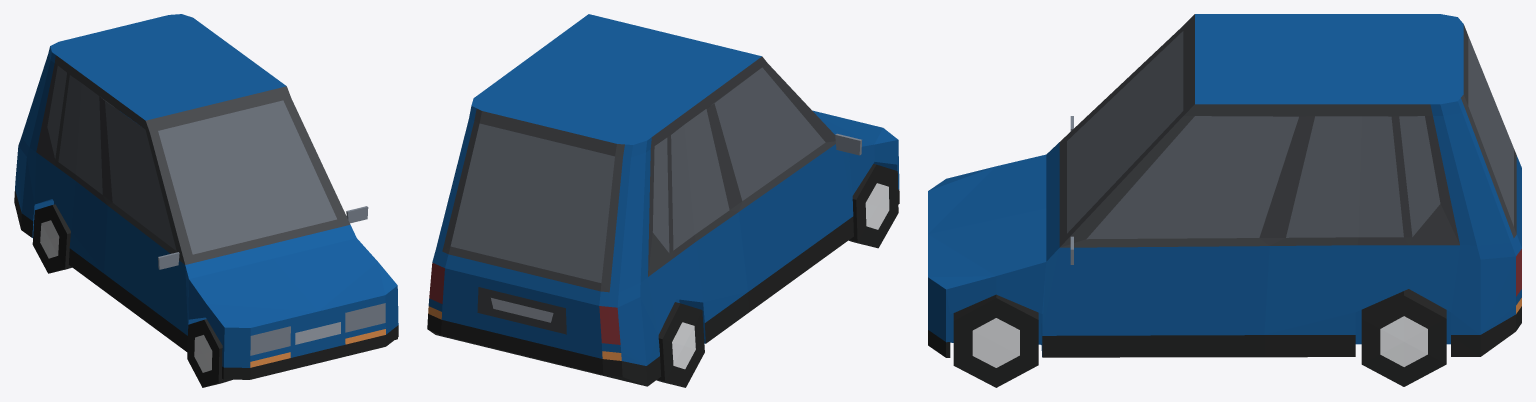
Rendered from Vehicles_Mini_Suv.fbx.
3 views of the same model, side by side, from view 1: azimuth 30°, elevation 25°; view 2: azimuth 150°, elevation 25°; view 3: azimuth 270°, elevation 25° (orthographic). The views are drawn at different scales.
Visible parts, largest first — view 1: Vehicles_Mini_Suv; view 2: Vehicles_Mini_Suv; view 3: Vehicles_Mini_Suv.
Part boxes in pixels (x1,y1,x2,y2): Vehicles_Mini_Suv: (14, 14, 398, 387); Vehicles_Mini_Suv: (427, 14, 899, 387); Vehicles_Mini_Suv: (928, 14, 1521, 387).
Size of the model in its own units: 210 by 198 by 393.
